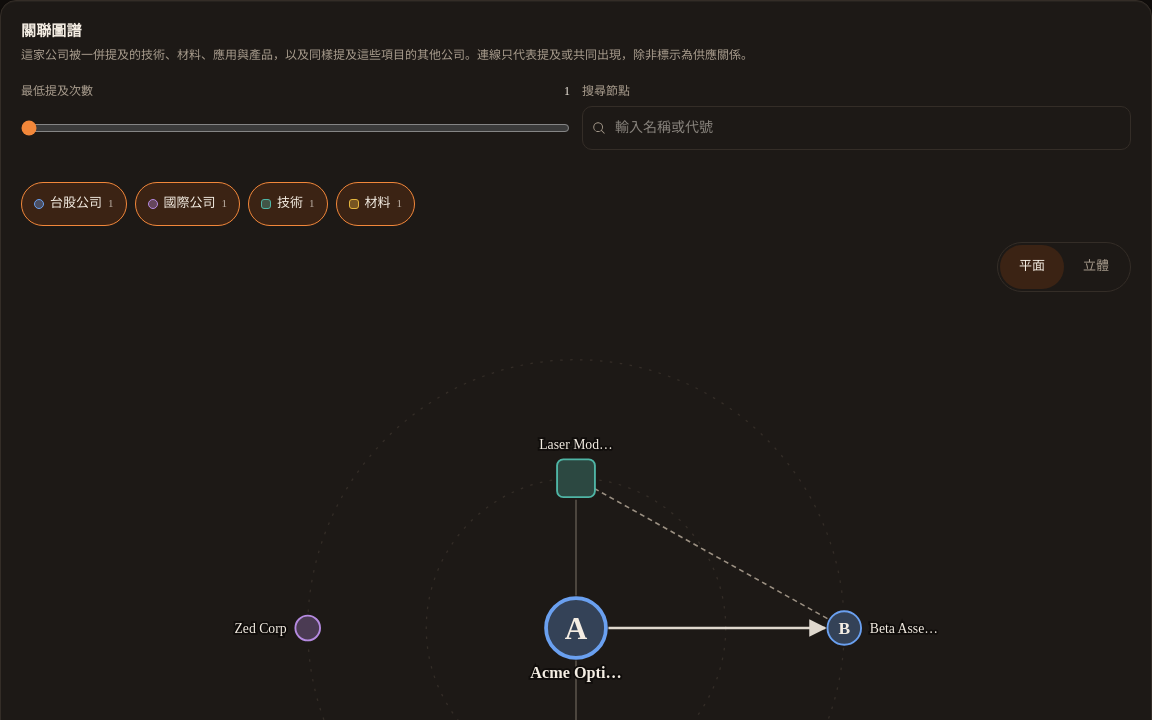
it: EntityGraph › toggles a type off and on with its chip
The image size is (1152, 720).
Click the button "材料 1". click: (375, 204)
box: [336, 182, 415, 226]
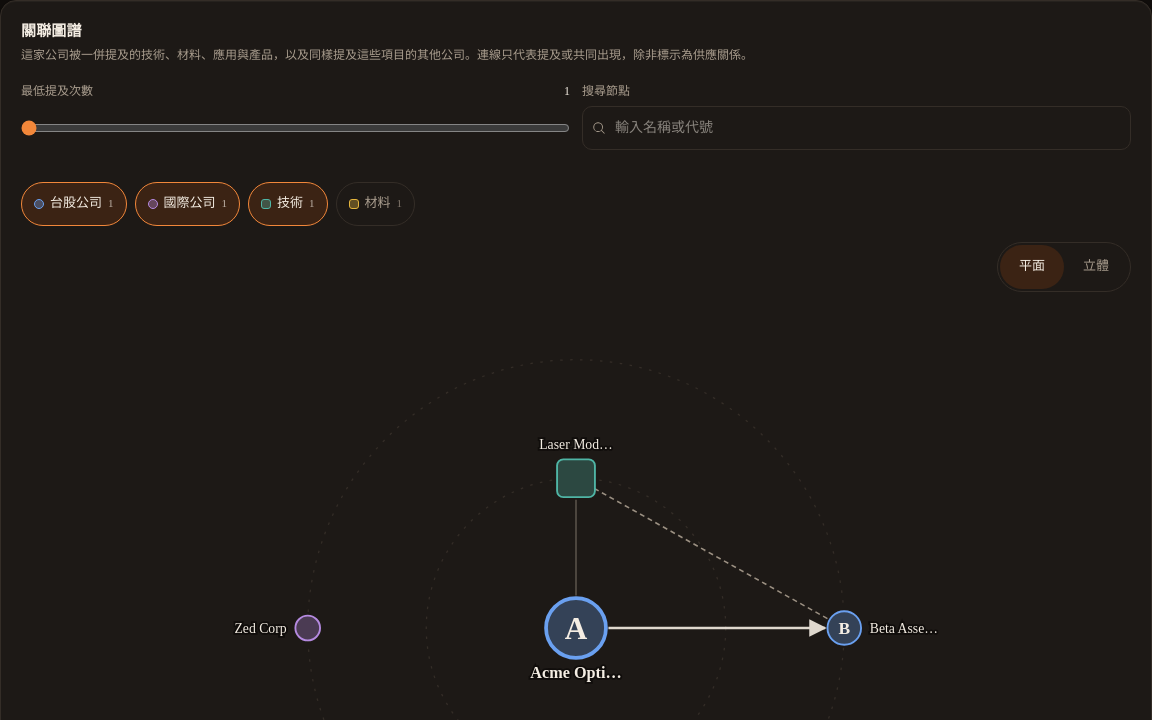
Click the button "材料 1". click: (375, 204)
box: [336, 182, 415, 226]
(page scrolled)
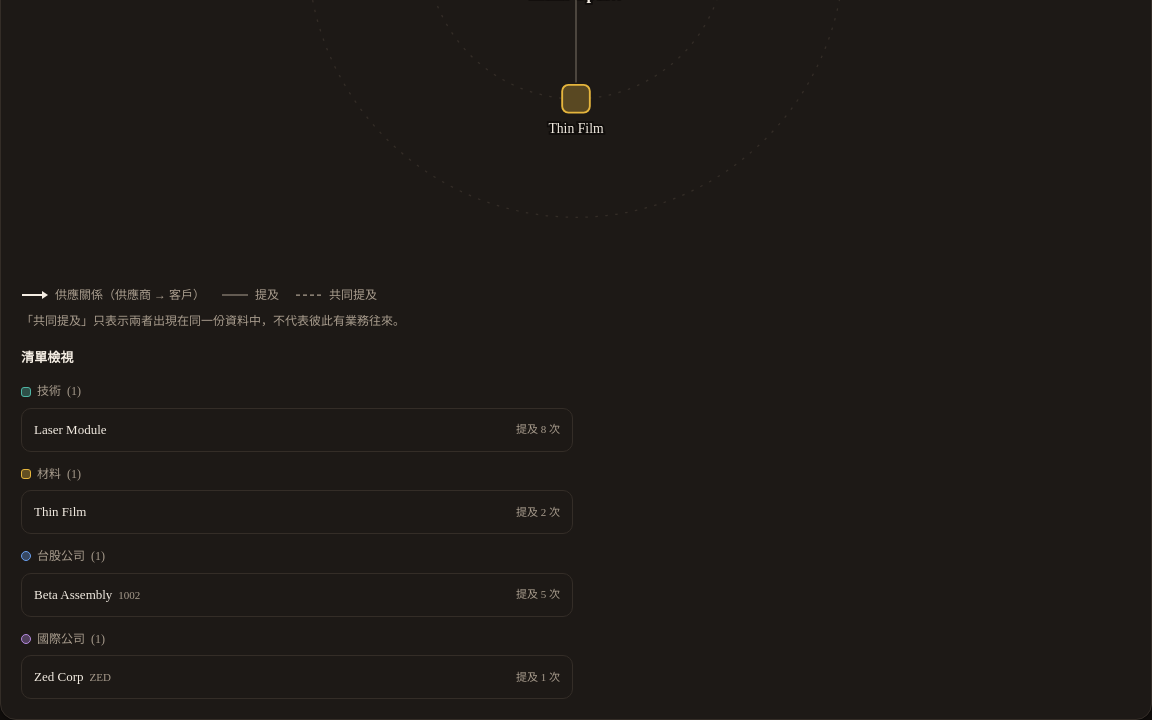
Result: the text "Thin Film" is shown at [34, 501, 86, 523]
